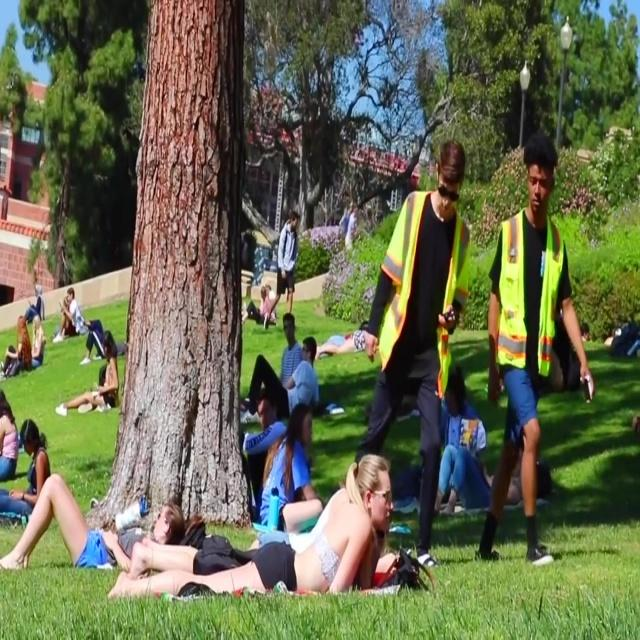vest: (375, 255, 470, 529), (498, 277, 565, 504)
